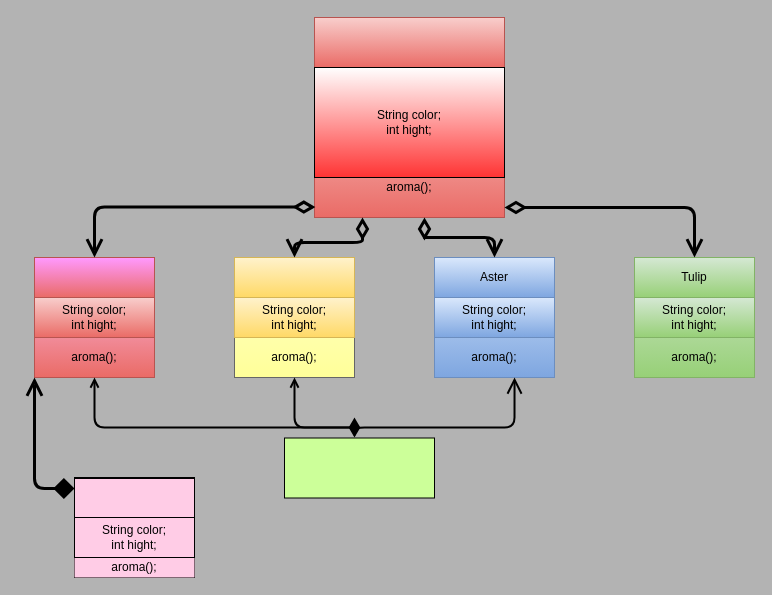
The diagram is 772 pixels wide and 595 high, and some of its shapes have lost their labels. Here are the shapes that lost their labels. From the top down, the centre of each, then its label:
At pixel 409 42: "Flower".
At pixel 94 277: "Rose".
At pixel 294 277: "Chamomile".
At pixel 359 467: "Bouquet".
At pixel 134 498: "Rosebush".
